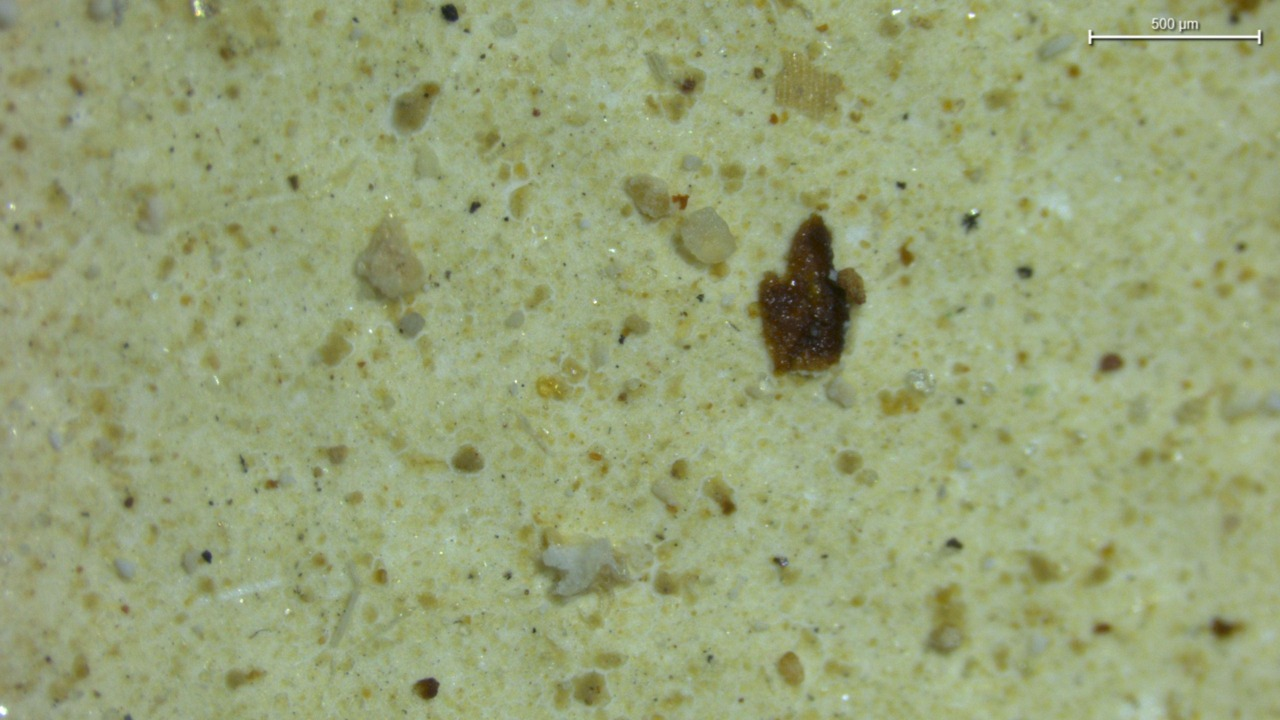microplastic_fragment: (356, 215, 426, 299), (542, 538, 619, 596), (678, 207, 736, 265), (625, 174, 670, 220)
